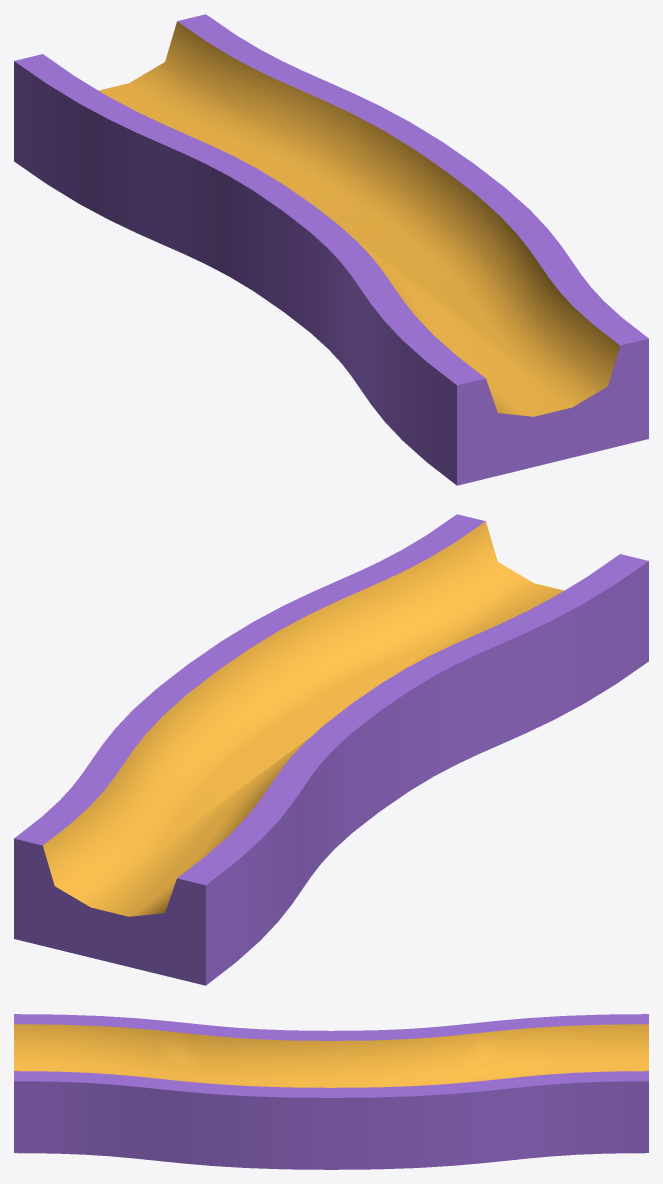
File: wave-a.glb
3 views of the same model, one above another, from view 1: azimuth 30°, elevation 25°; view 2: azimuth 150°, elevation 25°; view 3: azimuth 270°, elevation 25° (orthographic). The views are drawn at different scales.
Visible parts, largest first — view 1: wave-a; view 2: wave-a; view 3: wave-a.
Part boxes in pixels (left/top/right/bottom): wave-a: left=14, top=14, right=648, bottom=485; wave-a: left=14, top=514, right=648, bottom=985; wave-a: left=14, top=1014, right=648, bottom=1169.
Size of the model in its own units: 1.25 by 0.5 by 4.
Materials: 1 (1 with a texture image).
